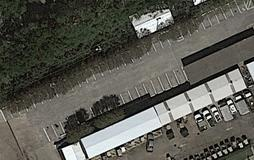parkingspot: (0, 28, 180, 122), (42, 65, 189, 143), (177, 0, 250, 41), (192, 89, 254, 134)
